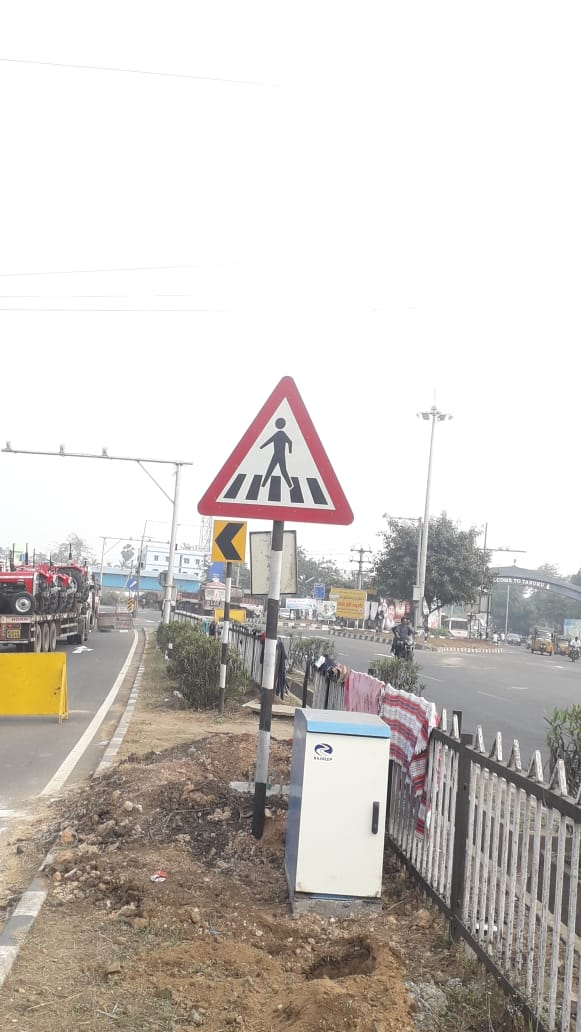pedestrian crossing: (203, 355, 351, 559)
